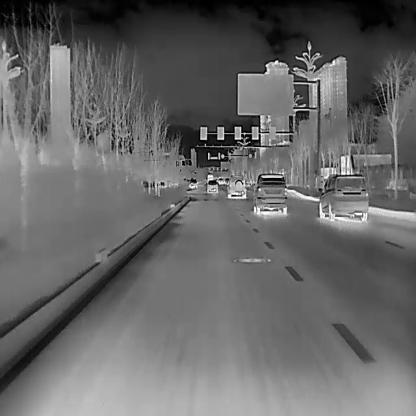car: (318, 173, 367, 221), (252, 172, 287, 213), (226, 174, 246, 197), (205, 180, 218, 193)
